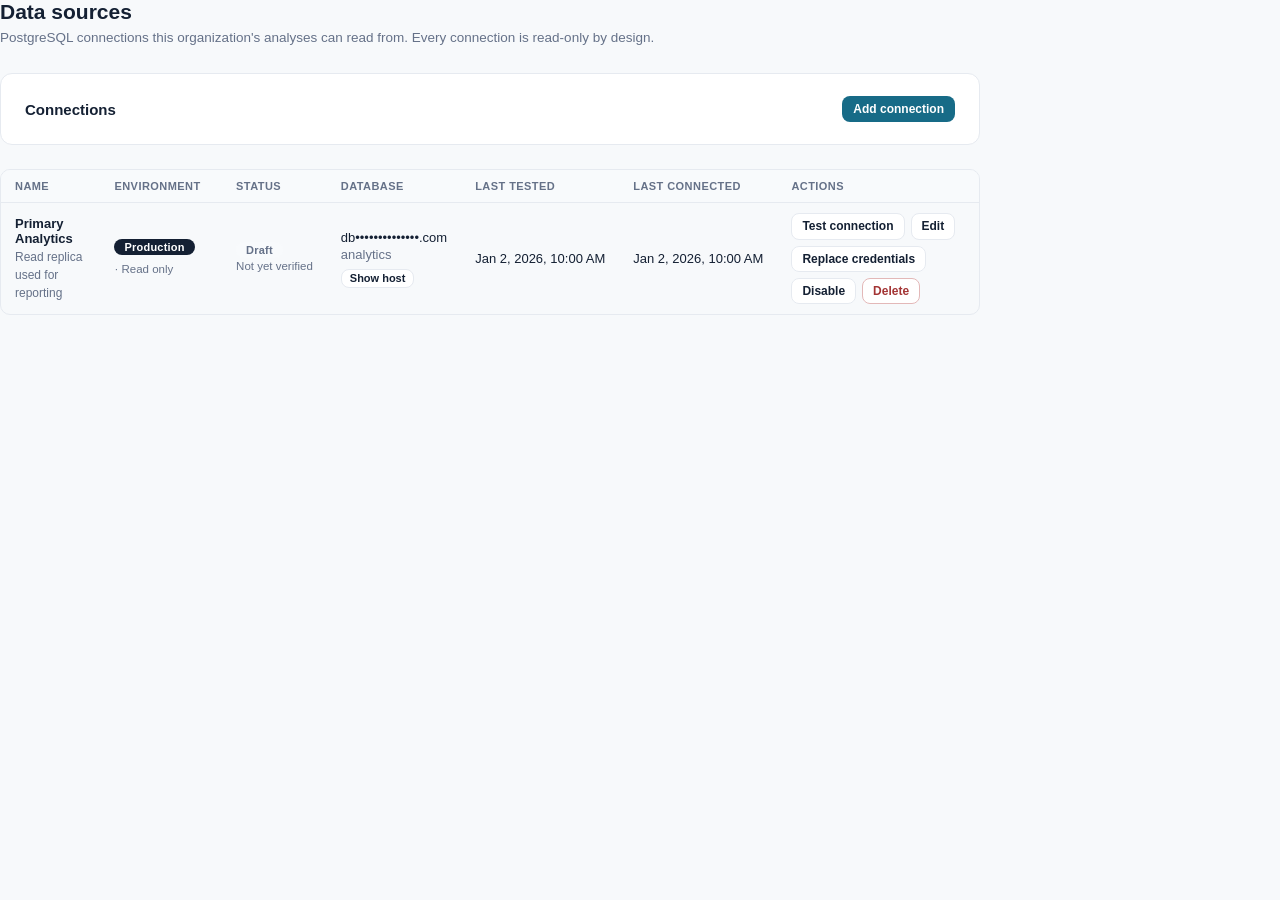
Test case: DataSourcesSettings › shows a safe message, not a raw exception, when a test fails
This screenshot has width=1280, height=900.
expect the text "Primary Analytics" is shown: met, box [15, 216, 73, 246]
Click the button "Test connection". click: (848,226)
box: [791, 213, 904, 240]
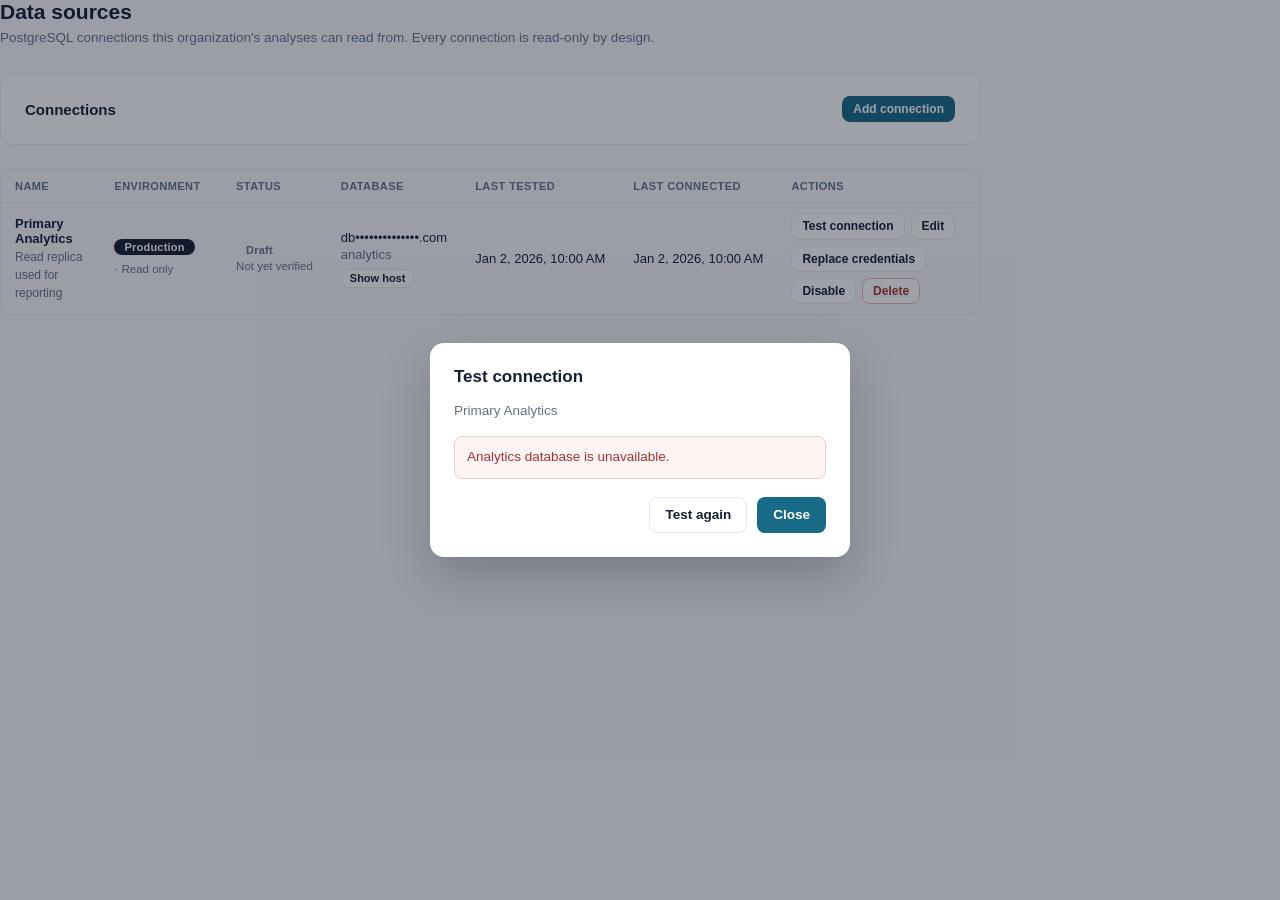
expect the text "Analytics database is unavailable." is shown: met, box [454, 436, 826, 479]
